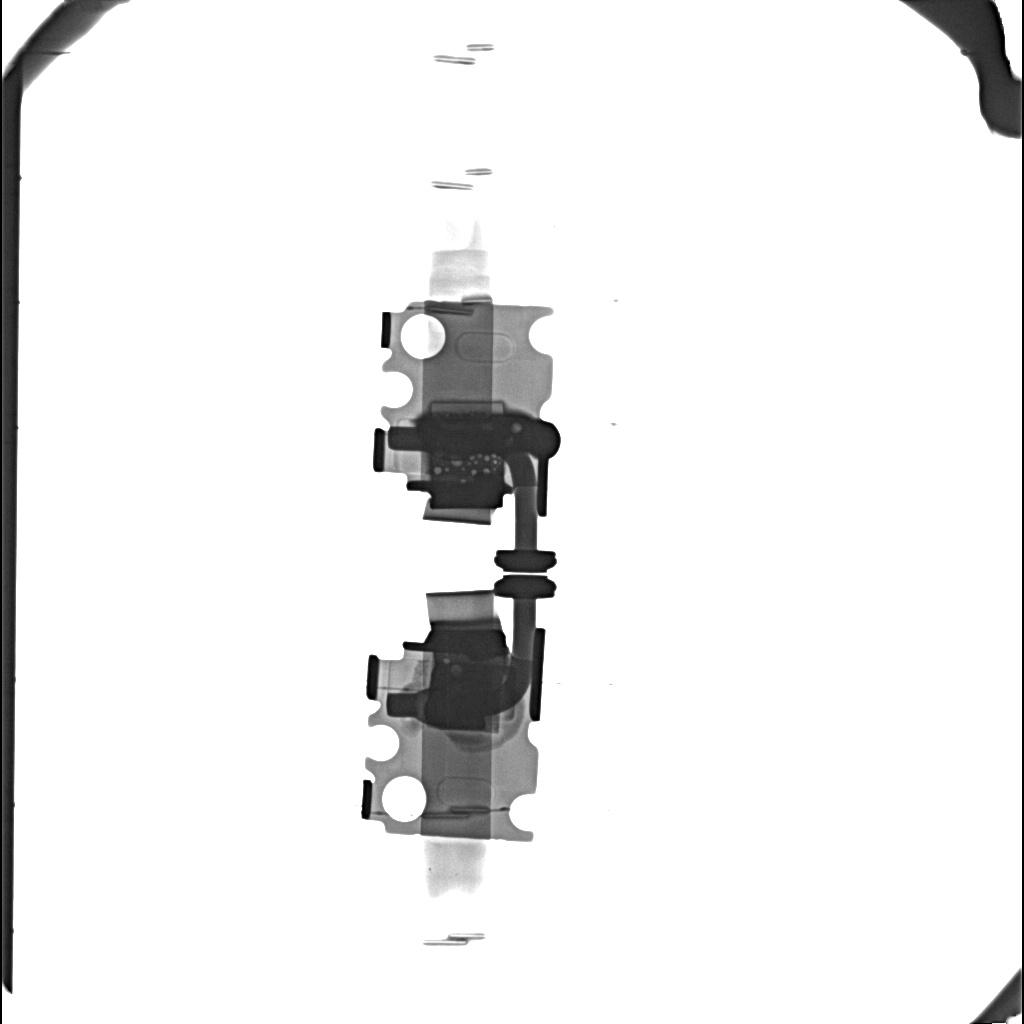气孔: (429, 401, 505, 412)
气泡: (452, 461, 464, 466), (434, 467, 441, 474), (483, 468, 489, 474), (471, 470, 477, 475), (484, 456, 489, 462)
水纹: (416, 414, 555, 456), (425, 687, 515, 729)
